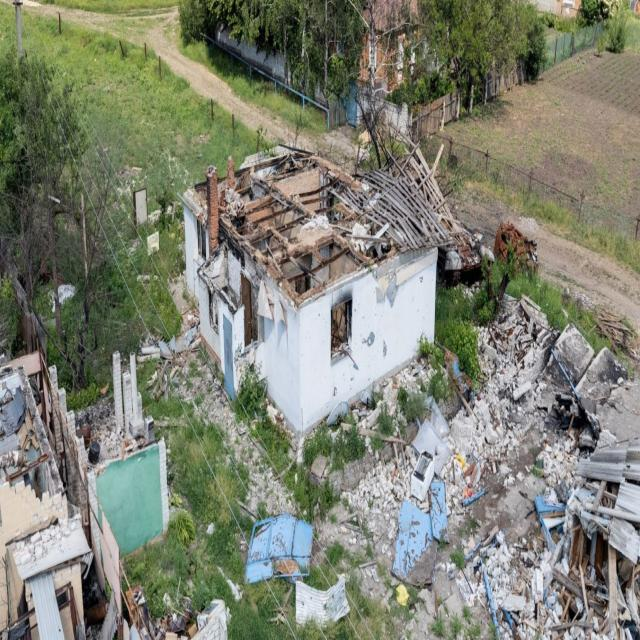broken_window: (330, 296, 352, 363)
building: (180, 143, 442, 436)
